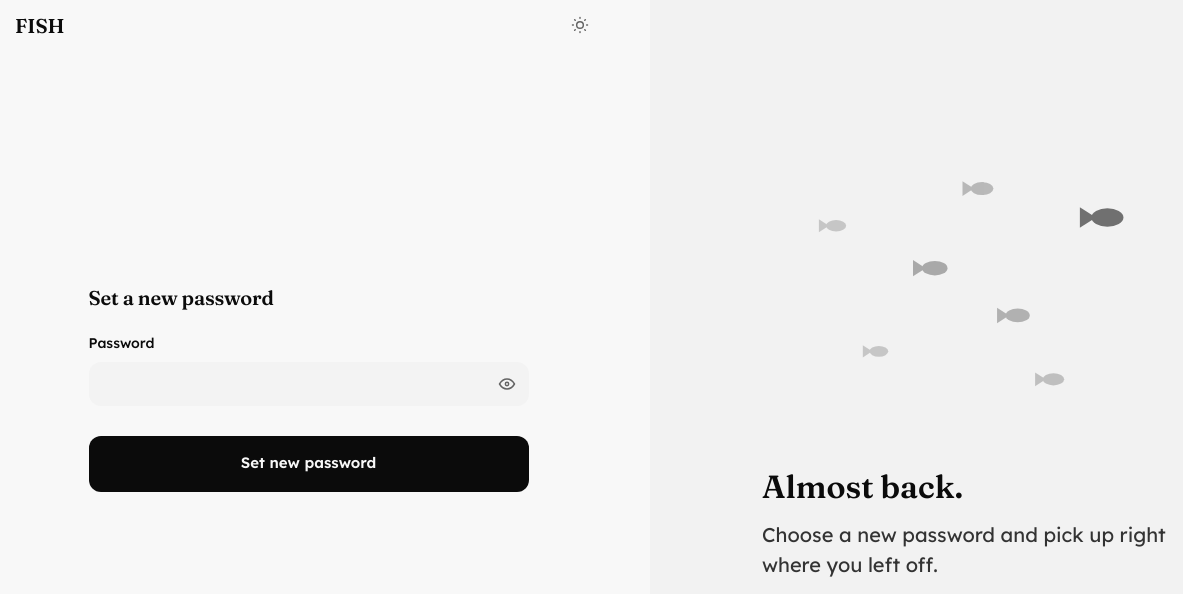
Test: ResetPasswordPage › a weak_password error keeps the length guidance
Type "short" into the password field labelled "Password". click: (308, 384)
box: x1=88 y1=362 x2=528 y2=406
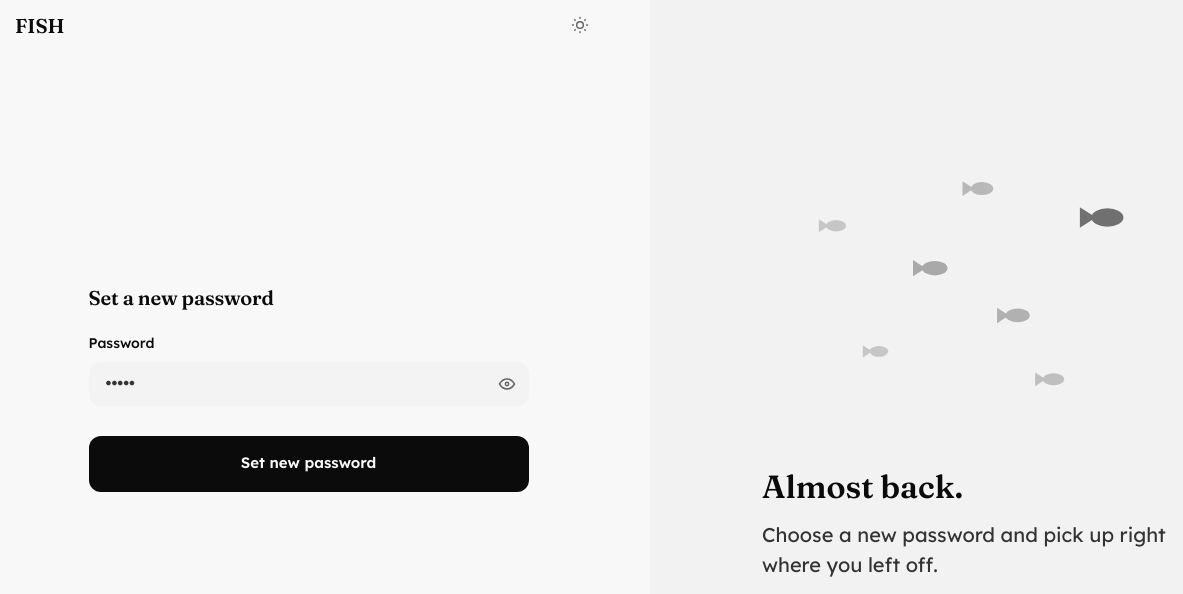
Click the button "Set new password". click: (308, 464)
box: x1=88 y1=436 x2=528 y2=492
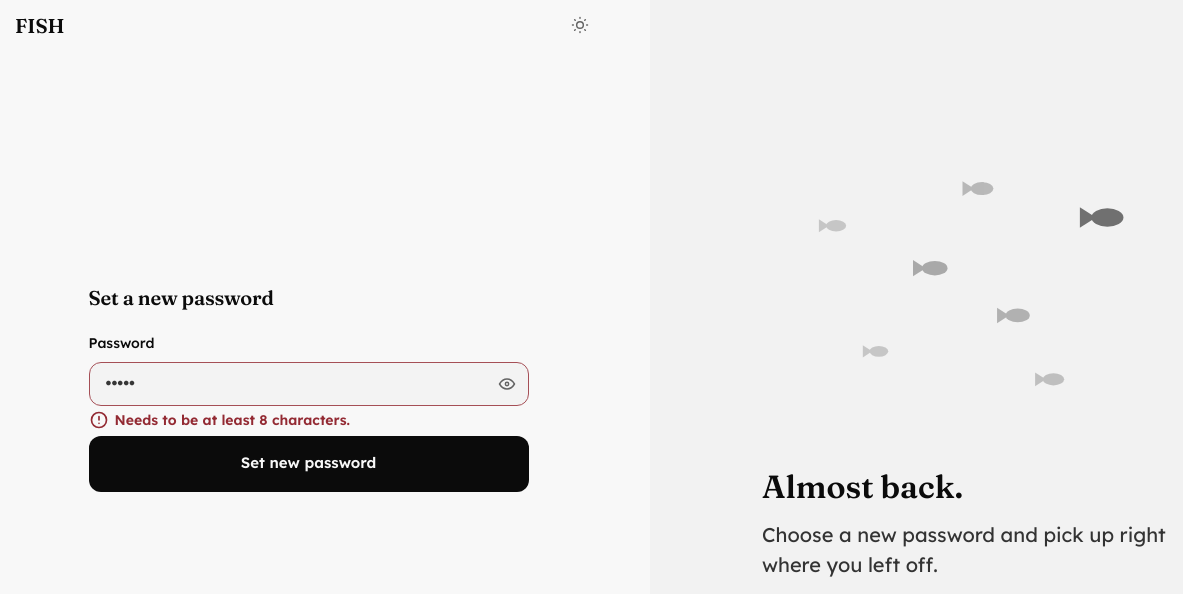
Now the text "Needs to be at least 8 characters." is shown, box x1=88 y1=410 x2=350 y2=430
